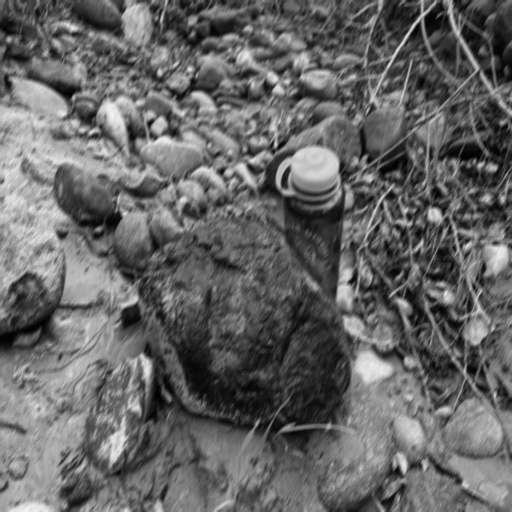bottle: (276, 146, 346, 302)
